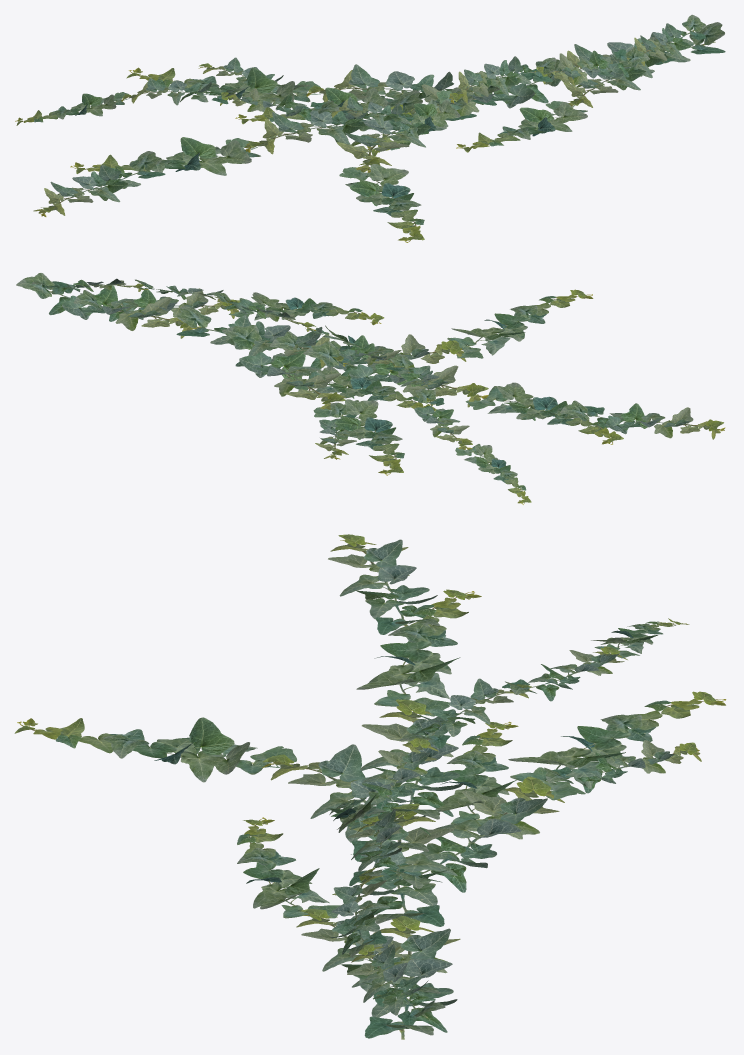
Rendered from sm_Ivy_01_03.fbx.
The picture shows the model from 3 angles, top to bottom: view 1: azimuth 30°, elevation 25°; view 2: azimuth 150°, elevation 25°; view 3: azimuth 270°, elevation 25°; orthographic projection. The views are drawn at different scales.
Parts seen in each view (by area): view 1: sm_Ivy_01_03; view 2: sm_Ivy_01_03; view 3: sm_Ivy_01_03.
Part boxes in pixels (x1,y1,x2,y2): sm_Ivy_01_03: [15, 14, 725, 242]; sm_Ivy_01_03: [16, 273, 725, 504]; sm_Ivy_01_03: [14, 534, 726, 1039].
Bounding box in the file's own units: 217 × 131 × 13.68.
